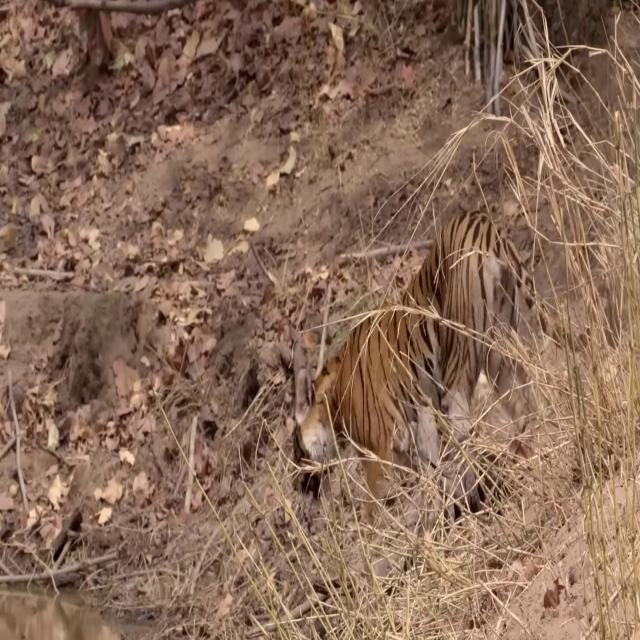tiger: (292, 209, 593, 502)
